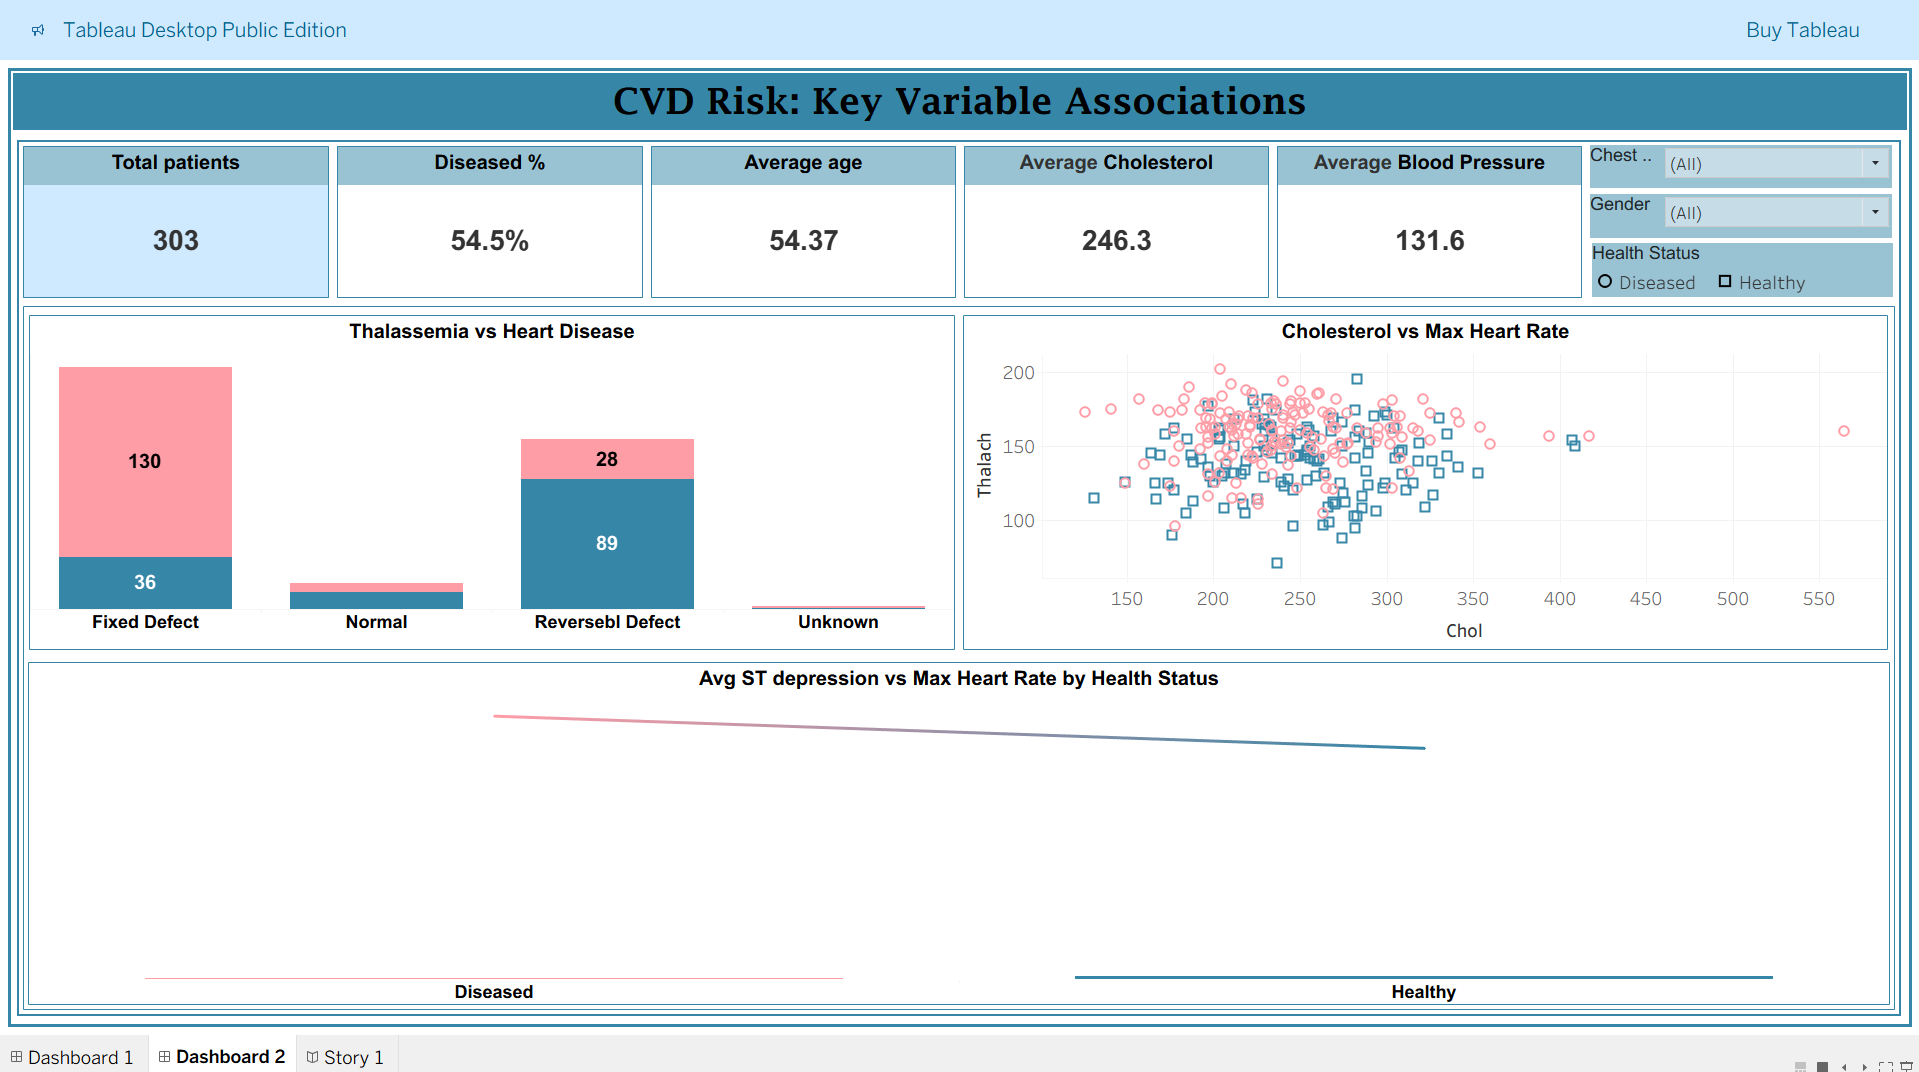

The page's visual inventory and layout, read from the dashboard file:
{"tool":"tableau","page":{"name":"Dashboard 2","canvas":[1000,1000],"units":"permille","ordinal":1},"visuals":[{"type":"worksheet","title":"Filter","mark":"Automatic","box":[836.7,12.1,155.9,56.3]},{"type":"title","box":[5.8,14.7,988.3,81.8]},{"type":"worksheet","title":"Total patients","mark":"Automatic","box":[10.1,109.9,163.1,214.5]},{"type":"worksheet","title":"% Diseased","mark":"Automatic","box":[173.2,109.9,163.1,214.5]},{"type":"worksheet","title":"AVG Age","mark":"Automatic","box":[336.3,109.9,163.1,214.5]},{"type":"worksheet","title":"AVG Cholesterol","mark":"Automatic","box":[499.5,109.9,163.1,214.5]},{"type":"worksheet","title":"AVG Blood Pressure","mark":"Automatic","box":[662.6,109.9,163.1,214.5]},{"type":"filter","title":"Filter","param":"[federated.1xqoomm09mymze1dq401p0kzggmd].[none:Calculation_935622861476827140:nk","box":[827.9,109.9,158.9,65.7]},{"type":"filter","title":"Filter","param":"[federated.1xqoomm09mymze1dq401p0kzggmd].[none:Calculation_1708553145440559105:n","box":[827.9,175.6,158.9,67]},{"type":"legend","title":"Scatter Plot","param":"[federated.1xqoomm09mymze1dq401p0kzggmd].[none:Calculation_1708553145440133120:n","box":[827.9,242.6,158.9,77.8]},{"type":"worksheet","title":"Bar: Thalassemia vs Heart Disease","mark":"Bar","rows":["Healthcare_data.csv_2AFA6BBEC7784C9DB82E16D4CC513893"],"cols":["Calculation_935622861506998277"],"box":[14.9,336.5,484.6,307]},{"type":"worksheet","title":"Scatter Plot","mark":"Automatic","rows":["thalach"],"cols":["chol"],"box":[499.5,336.5,484.6,307]},{"type":"worksheet","title":"Oldpeak vs Thalach","mark":"Automatic","rows":["oldpeak","thalach"],"cols":["Calculation_1708553145440133120"],"box":[12.8,648.8,973.4,316.4]}]}

Visuals, with their boxes on the dashboard's canvas, which has no fixed pixel size, in thousandths of its width and height (x1, y1, x2, y2). These are canvas units, not pixel positions in the 1919x1072 screenshot, which may show the page scaled, cropped or inside an application window:
"Filter" worksheet: bbox(837, 12, 993, 68)
title: bbox(6, 15, 994, 96)
"Total patients" worksheet: bbox(10, 110, 173, 324)
"% Diseased" worksheet: bbox(173, 110, 336, 324)
"AVG Age" worksheet: bbox(336, 110, 499, 324)
"AVG Cholesterol" worksheet: bbox(500, 110, 663, 324)
"AVG Blood Pressure" worksheet: bbox(663, 110, 826, 324)
"Filter" filter: bbox(828, 110, 987, 176)
"Filter" filter: bbox(828, 176, 987, 243)
"Scatter Plot" legend: bbox(828, 243, 987, 320)
"Bar: Thalassemia vs Heart Disease" worksheet (Bar marks): bbox(15, 336, 500, 644)
"Scatter Plot" worksheet: bbox(500, 336, 984, 644)
"Oldpeak vs Thalach" worksheet: bbox(13, 649, 986, 965)
